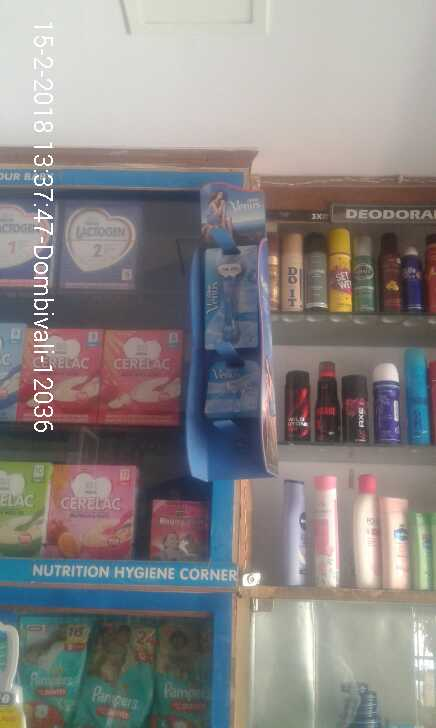venus: (201, 246, 261, 348), (206, 355, 262, 417)
